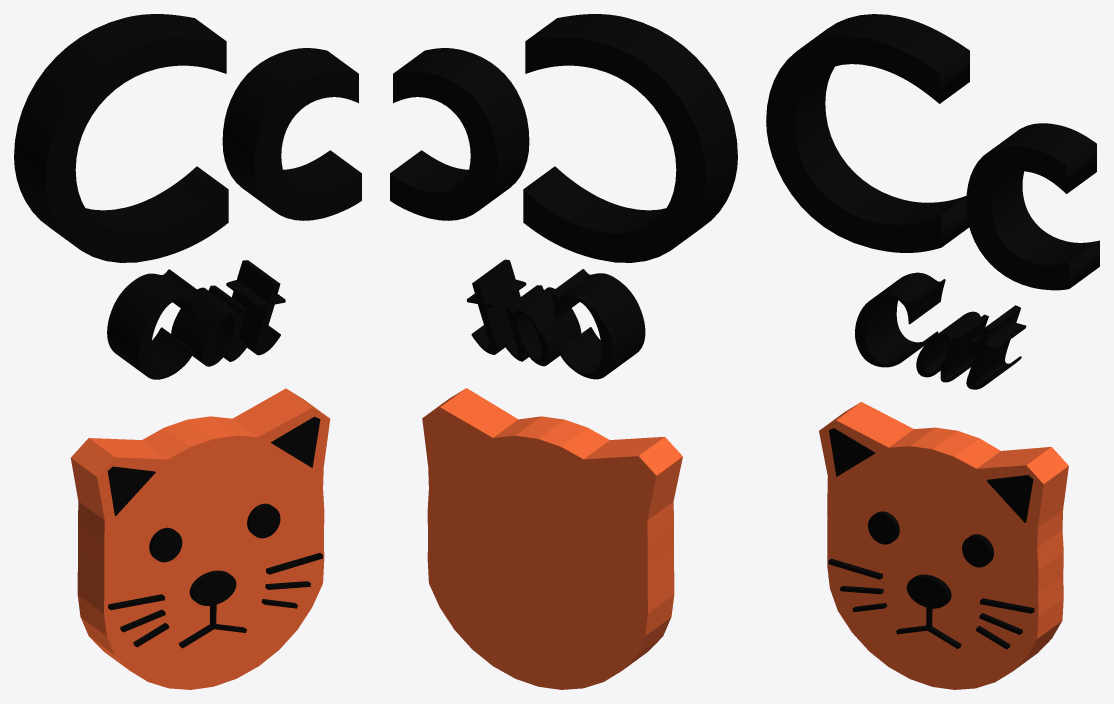
The model's file is Letter_C.glb.
3 renders of one model, left to right at view 1: azimuth 30°, elevation 25°; view 2: azimuth 150°, elevation 25°; view 3: azimuth 330°, elevation 25°, orthographic. The views are drawn at different scales.
Visible parts, largest first — view 1: Cylinder, Text, Text.001, Cube.009, Cube.010, Cylinder.003, Cylinder.002, Cylinder.001; view 2: Cylinder, Text, Text.001; view 3: Cylinder, Text, Text.001, Cube.009, Cylinder.003, Cube.010, Cylinder.002, Cylinder.001.
Boxes of the visible parts, x1=… form: Cylinder: x1=70, y1=388, x2=330, y2=689; Text: x1=14, y1=14, x2=361, y2=262; Text.001: x1=107, y1=260, x2=285, y2=379; Cube.009: x1=271, y1=416, x2=320, y2=467; Cube.010: x1=107, y1=466, x2=155, y2=515; Cylinder.003: x1=189, y1=570, x2=236, y2=605; Cylinder.002: x1=247, y1=503, x2=280, y2=538; Cylinder.001: x1=149, y1=527, x2=182, y2=562; Cylinder: x1=422, y1=388, x2=682, y2=689; Text: x1=390, y1=14, x2=737, y2=262; Text.001: x1=466, y1=259, x2=645, y2=379; Cylinder: x1=819, y1=402, x2=1068, y2=689; Text: x1=766, y1=14, x2=1099, y2=290; Text.001: x1=855, y1=272, x2=1026, y2=389; Cube.009: x1=987, y1=475, x2=1033, y2=522; Cylinder.003: x1=906, y1=574, x2=951, y2=608; Cube.010: x1=829, y1=428, x2=875, y2=476; Cylinder.002: x1=962, y1=534, x2=993, y2=567; Cylinder.001: x1=868, y1=511, x2=899, y2=544.
Bounding box in the file's own units: 0.6914 × 1.38 × 0.1212.
